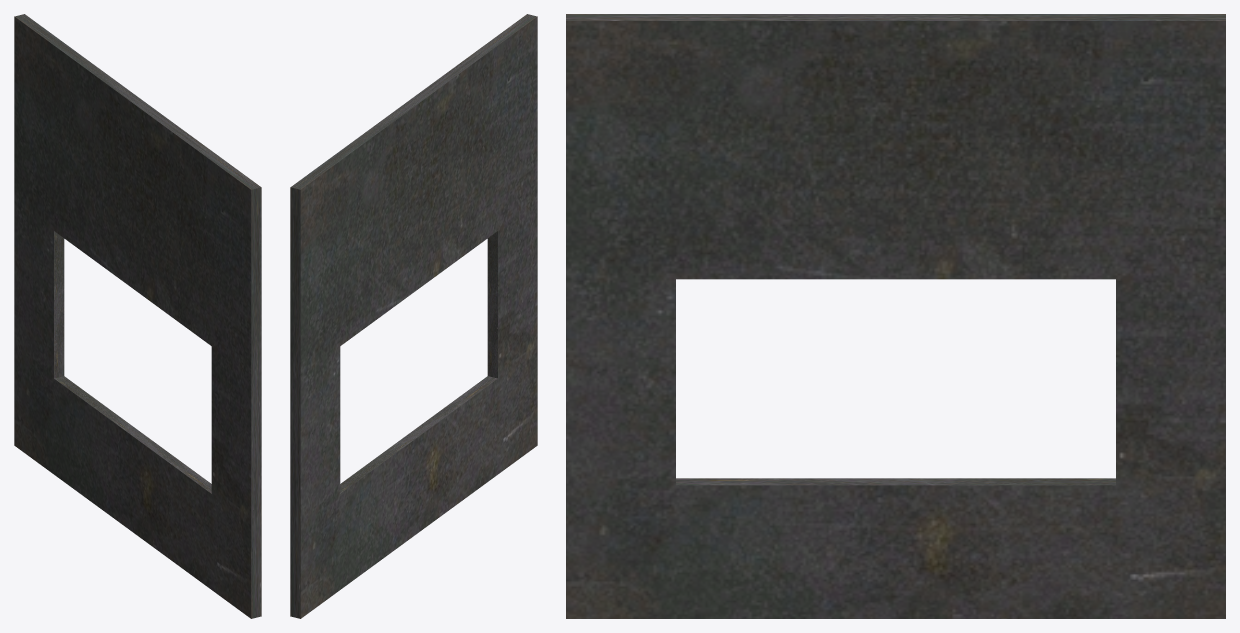
Rendered from window_frame.fbx.
The picture shows the model from 3 angles, left to right: view 1: azimuth 30°, elevation 25°; view 2: azimuth 150°, elevation 25°; view 3: azimuth 270°, elevation 25°; orthographic projection. The views are drawn at different scales.
Parts seen in each view (by area): view 1: WindowFrame; view 2: WindowFrame; view 3: WindowFrame.
Part boxes in pixels (x1=…): WindowFrame: x1=14, y1=14, x2=261, y2=618; WindowFrame: x1=290, y1=14, x2=537, y2=618; WindowFrame: x1=566, y1=14, x2=1225, y2=618.
Bounding box in the file's own units: 0.05 × 2 × 2.
Materials: 1 (1 with a texture image).
